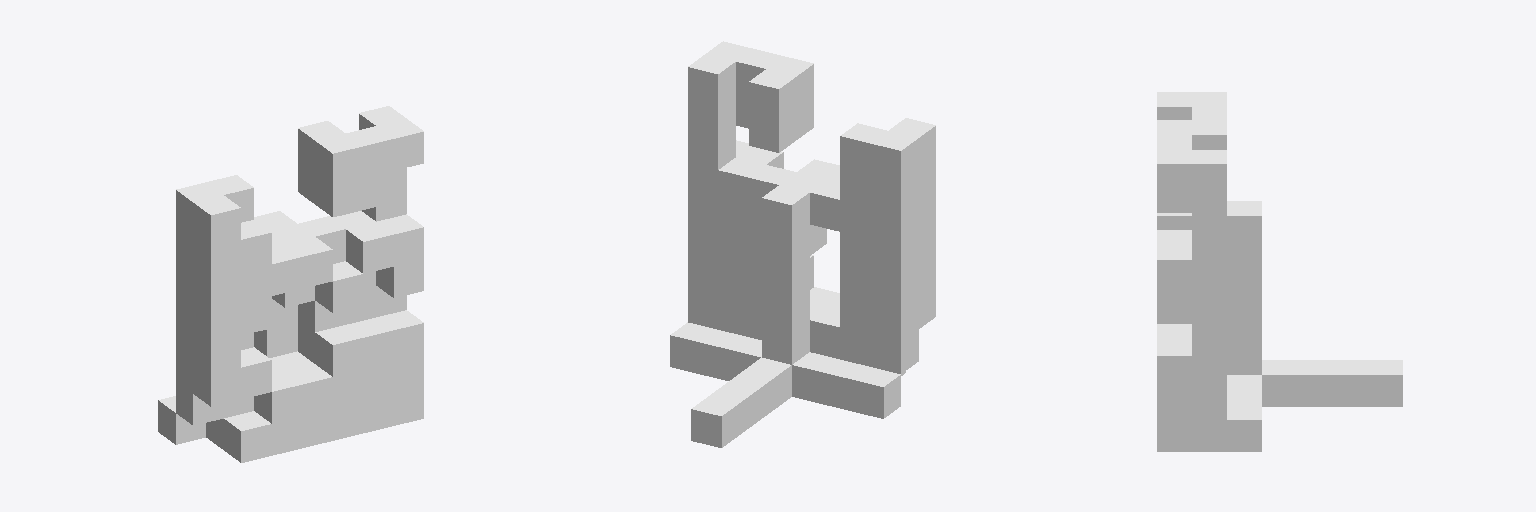
Rendered from Building1_Destroyed2-3.obj.
The picture shows the model from 3 angles: view 1: azimuth 30°, elevation 25°; view 2: azimuth 150°, elevation 25°; view 3: azimuth 270°, elevation 25°; orthographic projection.
Visible parts, largest first — view 1: object 1; view 2: object 1; view 3: object 1.
Boxes of the visible parts, x1=… form: object 1: x1=158, y1=106, x2=423, y2=462; object 1: x1=670, y1=41, x2=935, y2=447; object 1: x1=1157, y1=92, x2=1402, y2=451.
Bounding box in the file's own units: 0.7 × 0.9 × 0.7.